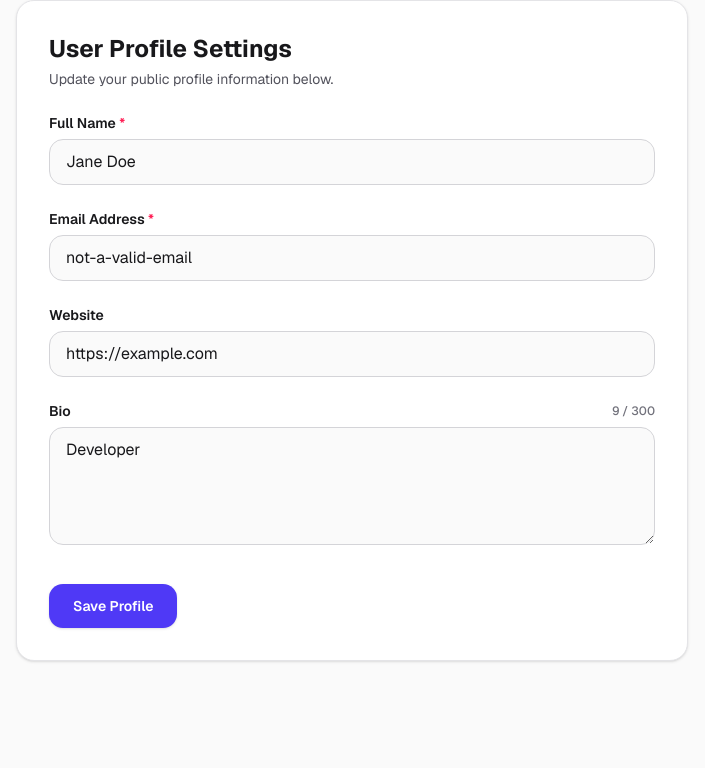
Test: ProfileForm Component UI & Accessibility Tests › (3) an invalid email format shows the email error
Click the button "Save Profile": coordinates (113, 606) [49, 584, 178, 628]
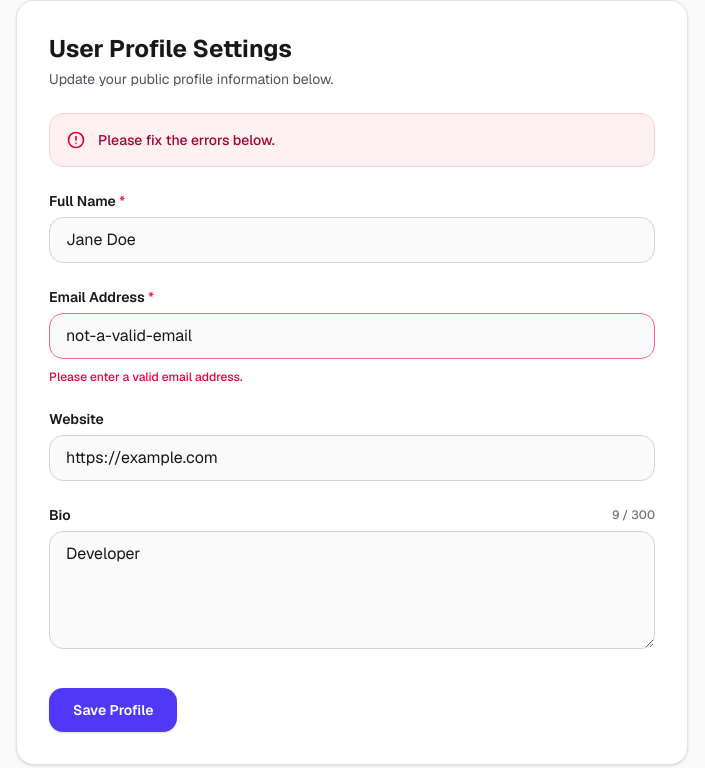
Now the text "Please enter a valid email address." is shown, box [49, 369, 243, 385]
